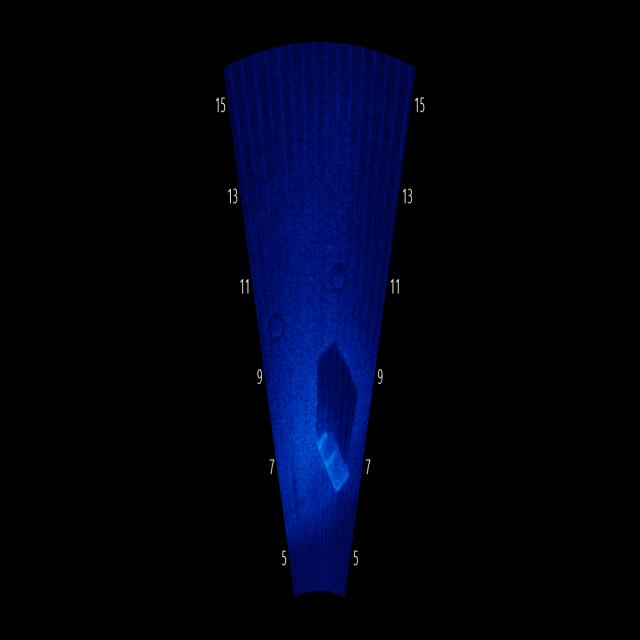square: (295, 393, 359, 509)
